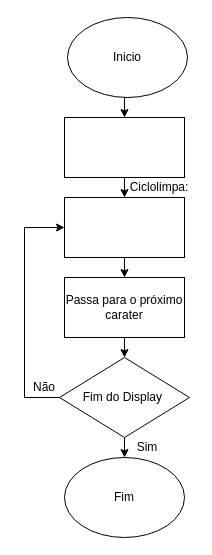
Image size: 212x555. Some labels were removed from this diagram. Here are the shapes that lost their labels. From the top down, the centre of each, then its label:
At point (124, 147): "Inicio = Display_inic Fim = Display_end".
At point (124, 227): "Escreva carater vazio (20H)".
